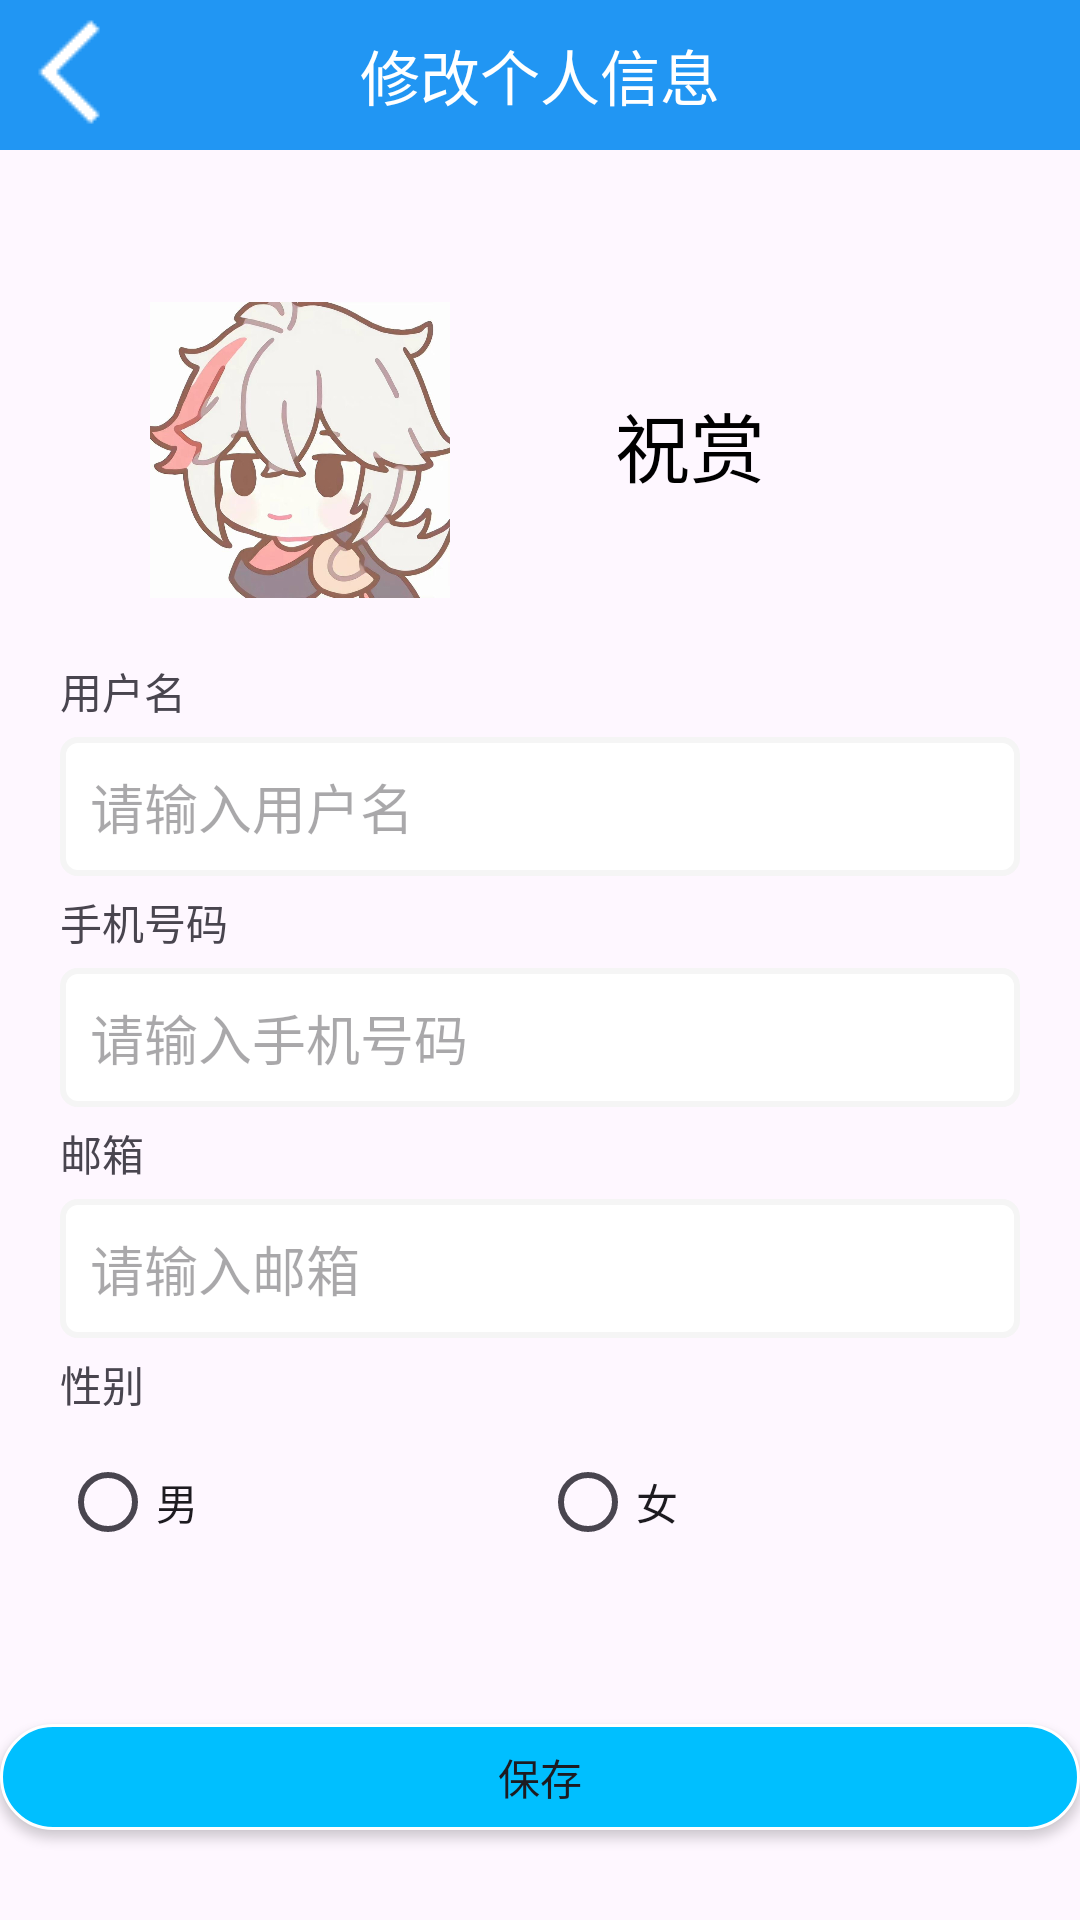

Icon click points for this 1080px x 1920px phone screenshot, format point (x, y):
left: point (69, 72)
